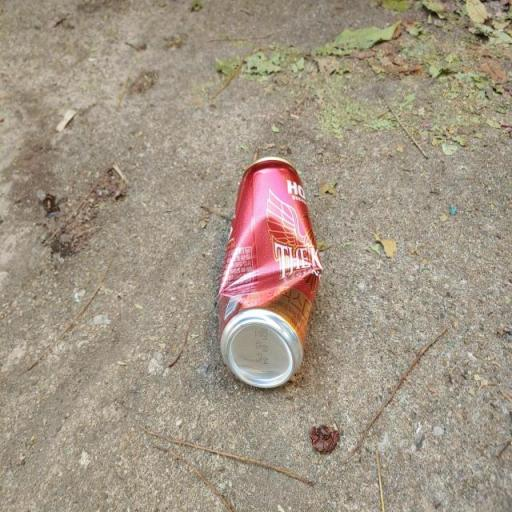metal: (188, 133, 366, 437)
